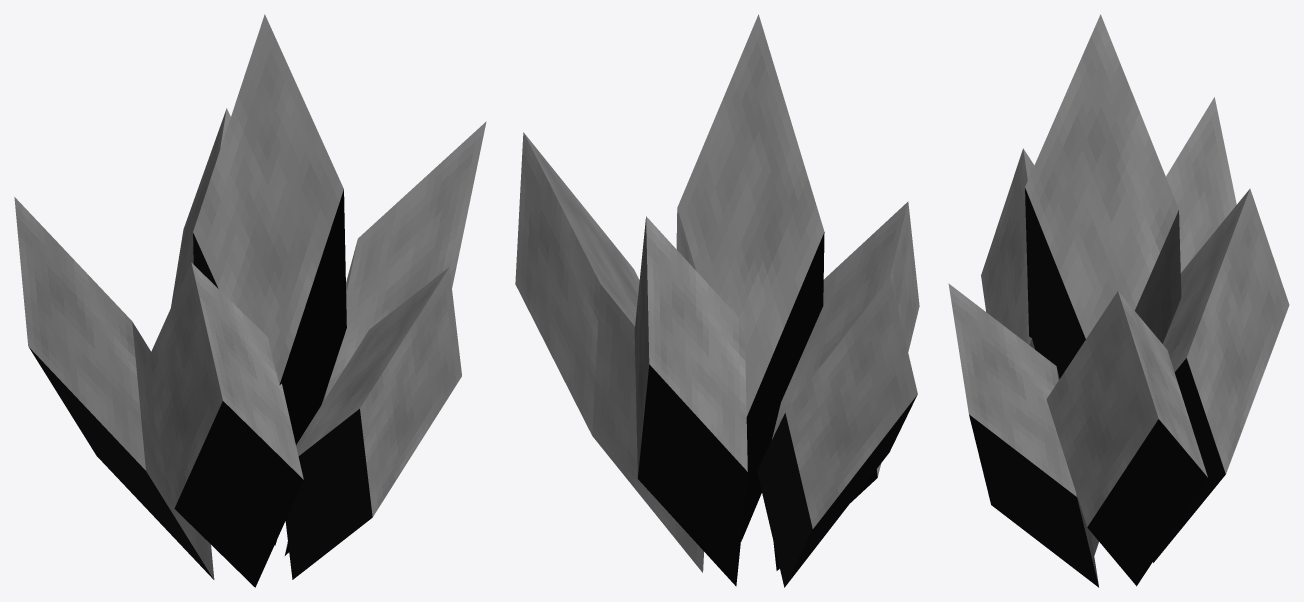
Rendered from mixed_crystal_cluster.obj.
3 renders of one model, left to right at view 1: azimuth 30°, elevation 25°; view 2: azimuth 150°, elevation 25°; view 3: azimuth 270°, elevation 25°, orthographic.
Parts seen in each view (by area): view 1: part0, part4, part5, part3, part1, part2; view 2: part0, part2, part1, part3, part4; view 3: part0, part1, part2, part5, part3, part4.
Part boxes in pixels (x1,y1,x2,y2): part0: [193, 14, 346, 545]; part4: [143, 262, 303, 587]; part5: [285, 267, 461, 579]; part3: [14, 197, 214, 579]; part1: [284, 121, 486, 555]; part2: [171, 108, 230, 306]; part0: [676, 14, 824, 541]; part2: [634, 216, 747, 586]; part1: [515, 132, 703, 572]; part3: [757, 277, 917, 587]; part4: [772, 201, 919, 570]; part0: [1025, 14, 1181, 378]; part1: [1046, 291, 1207, 586]; part2: [1153, 188, 1289, 562]; part5: [948, 283, 1098, 587]; part3: [1166, 97, 1236, 272]; part4: [981, 148, 1098, 555].
Bounding box in the file's own units: 0.8234 × 1.05 × 0.5768.
